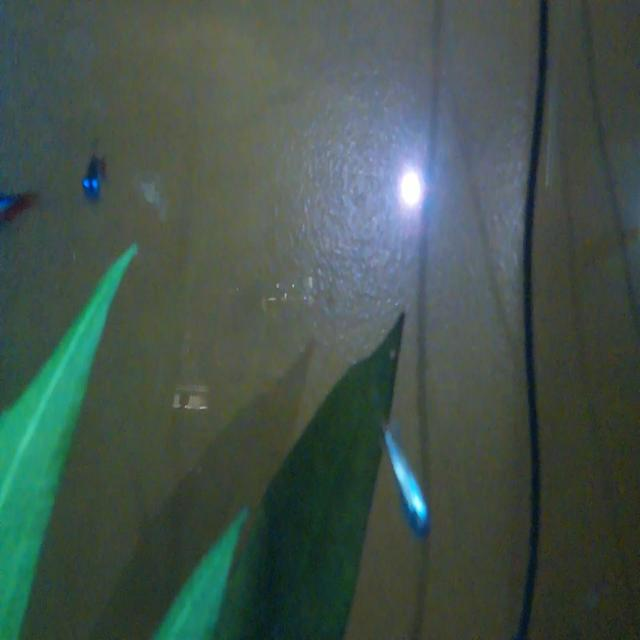fish: (373, 411, 438, 539), (71, 147, 119, 207)
